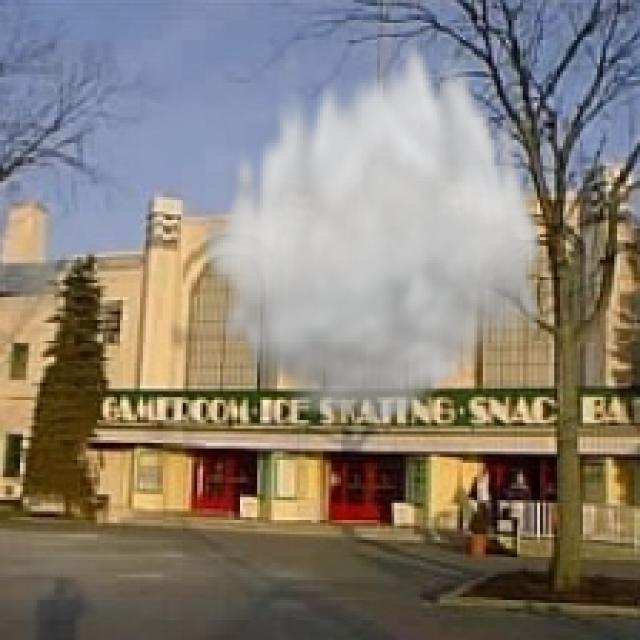smoke: (197, 26, 546, 431)
